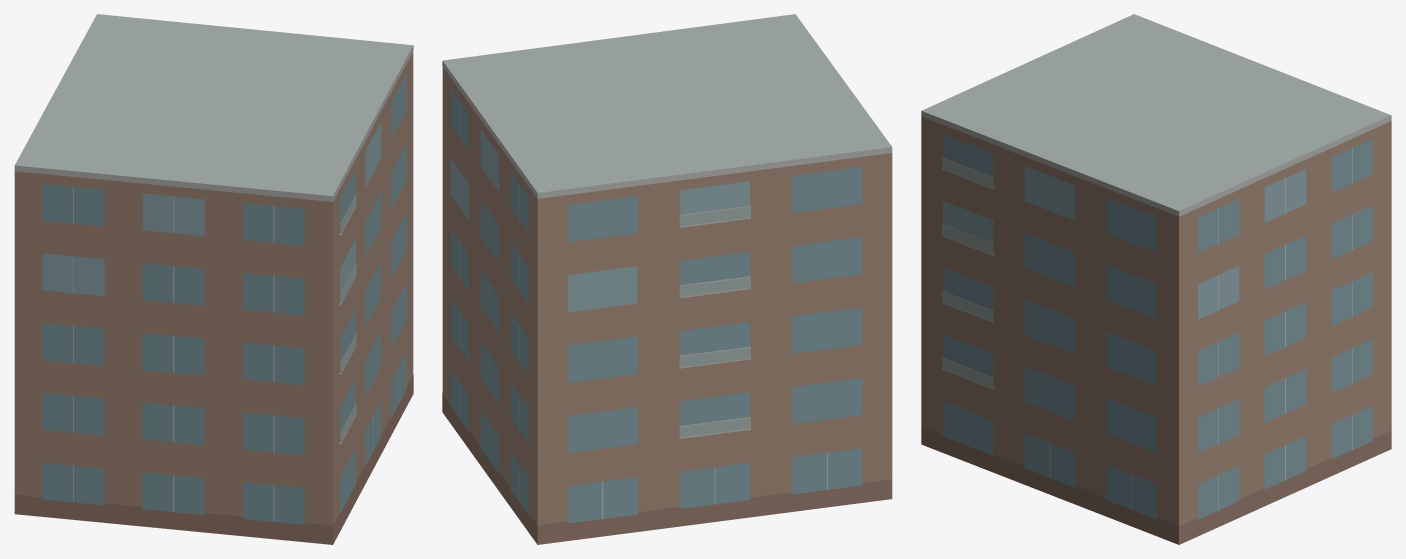
The model's file is survey-upis-32988120.glb.
The picture shows the model from 3 angles, left to right: view 1: azimuth 30°, elevation 25°; view 2: azimuth 150°, elevation 25°; view 3: azimuth 270°, elevation 25°; orthographic projection. The views are drawn at different scales.
Visible parts, largest first — view 1: survey-upis-32988120.tmp; view 2: survey-upis-32988120.tmp; view 3: survey-upis-32988120.tmp.
Part boxes in pixels (x1=…): survey-upis-32988120.tmp: x1=14, y1=14, x2=413, y2=544; survey-upis-32988120.tmp: x1=442, y1=14, x2=892, y2=544; survey-upis-32988120.tmp: x1=921, y1=14, x2=1391, y2=544.
Bounding box in the file's own units: 18.71 × 14.75 × 18.85.
